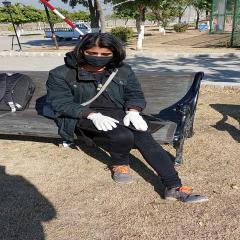gloved: (89, 113, 118, 131), (123, 111, 147, 131)
